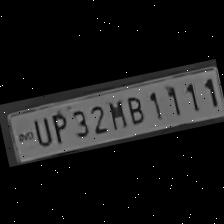1: (159, 81, 184, 118), (178, 77, 202, 114), (196, 73, 220, 110), (142, 85, 166, 121)
2: (85, 98, 108, 134)
3: (64, 103, 90, 139)
B: (120, 90, 146, 126)
M: (102, 94, 127, 131)
P: (45, 107, 70, 144)
U: (28, 112, 52, 147)
